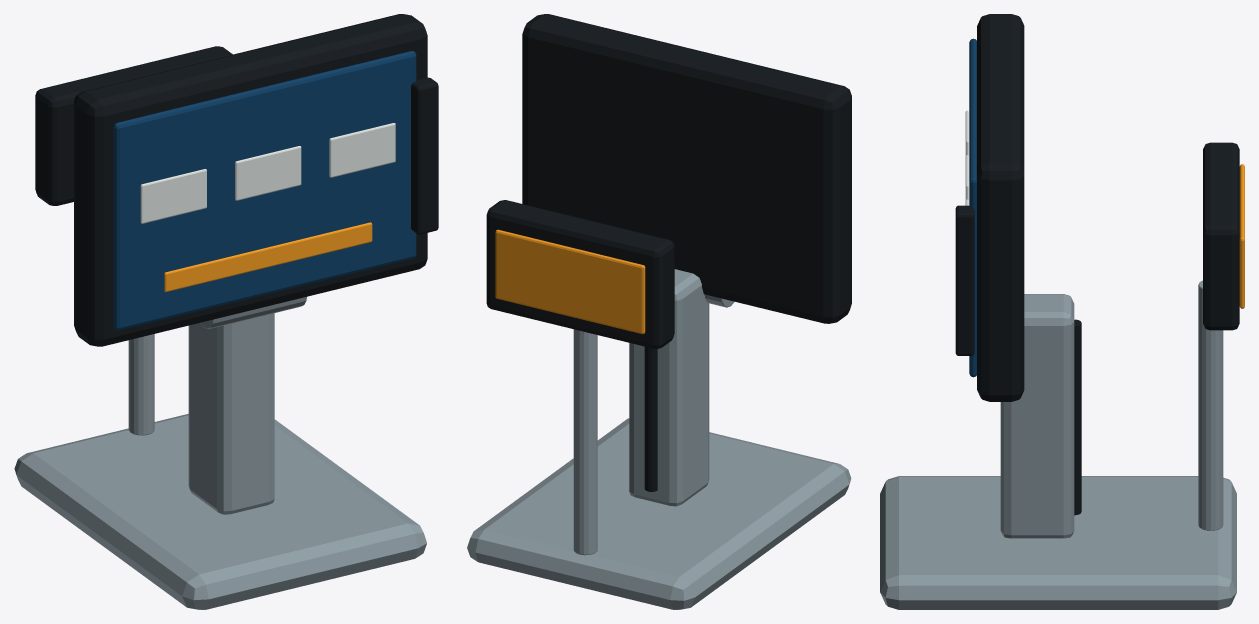
File: edited.glb
3 views of the same model, side by side, from view 1: azimuth 30°, elevation 25°; view 2: azimuth 150°, elevation 25°; view 3: azimuth 270°, elevation 25° (orthographic). The views are drawn at different scales.
Parts seen in each view (by area): view 1: SCREEN, BASE, DISPLAY_Case, STAND, CUSTOMER_Display, UI_Total, CARD_SwipeChannel, UI_Tile, UI_Tile.001, UI_Tile.002, CUSTOMER_Stem, TILT_Axle; view 2: DISPLAY_Case, BASE, STAND, CUSTOMER_Display, CUSTOMER_Total, CUSTOMER_Stem, CABLE_Stem; view 3: BASE, DISPLAY_Case, STAND, CUSTOMER_Display, CUSTOMER_Stem, CARD_SwipeChannel, SCREEN, CABLE_Stem, CUSTOMER_Total.
Part boxes in pixels (x1=…): SCREEN: x1=113, y1=51, x2=416, y2=330; BASE: x1=14, y1=414, x2=426, y2=609; DISPLAY_Case: x1=74, y1=14, x2=427, y2=346; STAND: x1=188, y1=313, x2=274, y2=514; CUSTOMER_Display: x1=35, y1=46, x2=232, y2=205; UI_Total: x1=164, y1=222, x2=372, y2=291; CARD_SwipeChannel: x1=411, y1=77, x2=438, y2=234; UI_Tile: x1=140, y1=169, x2=206, y2=223; UI_Tile.001: x1=235, y1=146, x2=301, y2=200; UI_Tile.002: x1=329, y1=123, x2=395, y2=177; CUSTOMER_Stem: x1=128, y1=334, x2=154, y2=435; TILT_Axle: x1=200, y1=297, x2=306, y2=329; DISPLAY_Case: x1=522, y1=14, x2=851, y2=323; BASE: x1=467, y1=418, x2=851, y2=609; STAND: x1=629, y1=269, x2=709, y2=506; CUSTOMER_Display: x1=486, y1=200, x2=674, y2=348; CUSTOMER_Total: x1=495, y1=229, x2=645, y2=334; CUSTOMER_Stem: x1=573, y1=329, x2=597, y2=555; CABLE_Stem: x1=644, y1=346, x2=657, y2=491; BASE: x1=880, y1=476, x2=1236, y2=609; DISPLAY_Case: x1=977, y1=14, x2=1024, y2=401; STAND: x1=1000, y1=294, x2=1074, y2=538; CUSTOMER_Display: x1=1203, y1=142, x2=1239, y2=330; CUSTOMER_Stem: x1=1198, y1=280, x2=1223, y2=530; CARD_SwipeChannel: x1=955, y1=205, x2=974, y2=355; SCREEN: x1=969, y1=38, x2=976, y2=377; CABLE_Stem: x1=1074, y1=319, x2=1081, y2=515; CUSTOMER_Total: x1=1239, y1=164, x2=1244, y2=308.
Size of the model in its own units: 0.36 by 0.495 by 0.3475.
